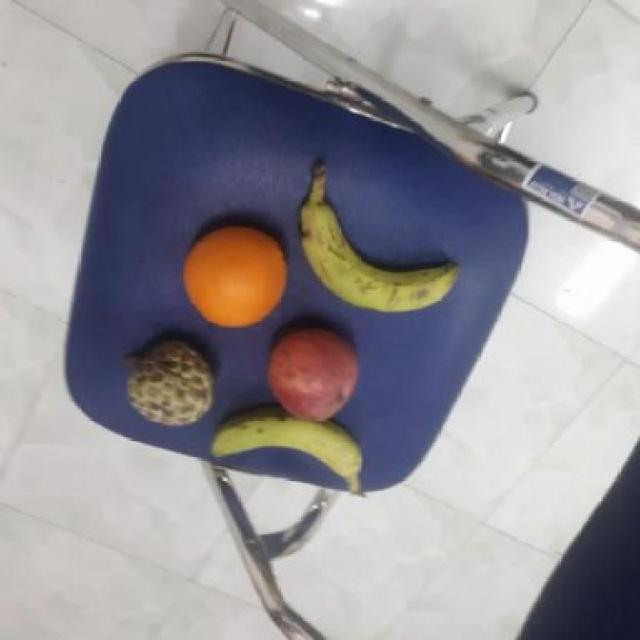apple: (265, 324, 366, 424)
banana: (295, 204, 460, 316), (209, 410, 366, 490)
oren: (180, 221, 292, 328)
sugar apple: (120, 339, 215, 430)
